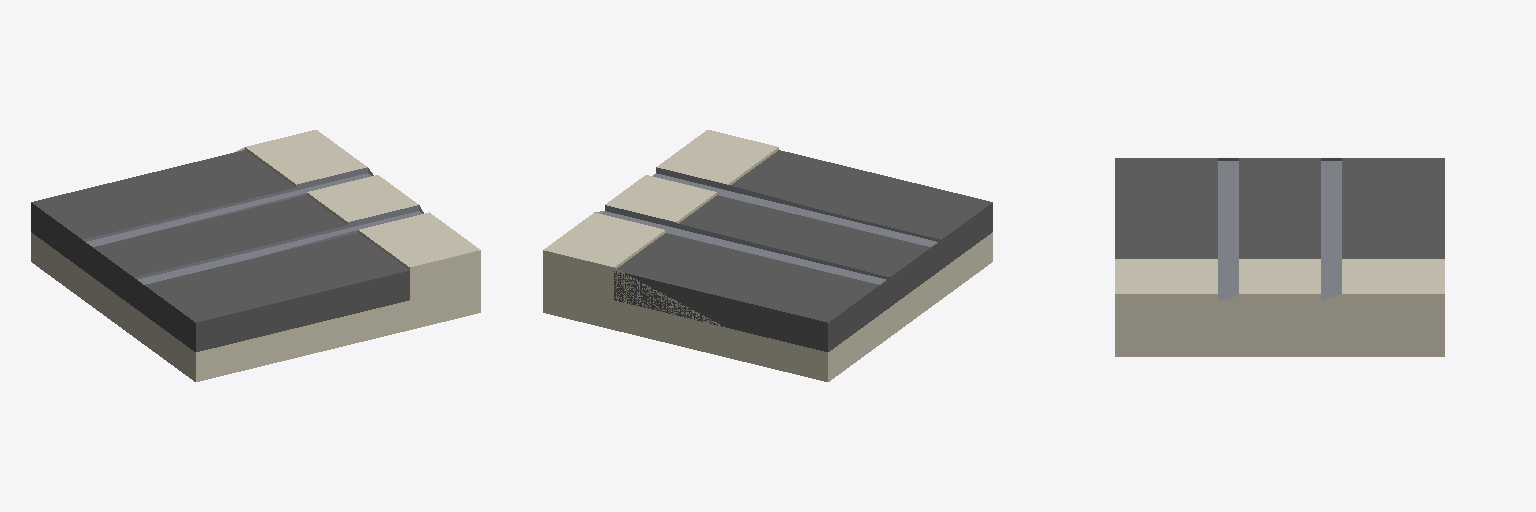
File: roadTile_105.obj
The picture shows the model from 3 angles: view 1: azimuth 30°, elevation 25°; view 2: azimuth 150°, elevation 25°; view 3: azimuth 270°, elevation 25°; orthographic projection.
Parts seen in each view (by area): view 1: Mesh1 Group1 Model; view 2: Mesh1 Group1 Model; view 3: Mesh1 Group1 Model.
Boxes of the visible parts, x1,y1,x2,y2 form: Mesh1 Group1 Model: [31, 130, 480, 381]; Mesh1 Group1 Model: [543, 130, 992, 381]; Mesh1 Group1 Model: [1115, 158, 1444, 356].
Size of the model in its own units: 3 by 0.63 by 3.